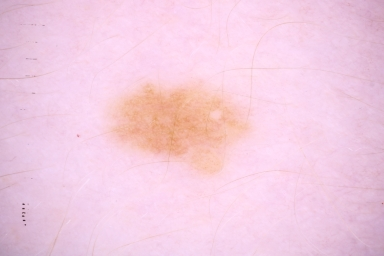nevus: (116, 85, 253, 168)
